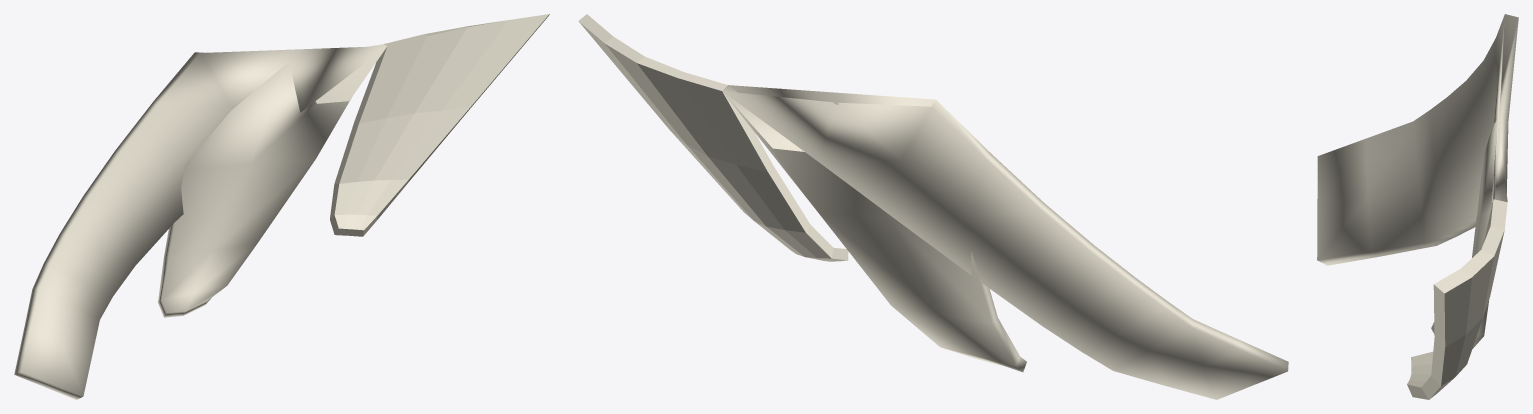
3 views of the same model, side by side, from view 1: azimuth 30°, elevation 25°; view 2: azimuth 150°, elevation 25°; view 3: azimuth 270°, elevation 25° (orthographic). The views are drawn at different scales.
Parts seen in each view (by area): view 1: ZA_f1ae6098c7b2bb76; view 2: ZA_f1ae6098c7b2bb76; view 3: ZA_f1ae6098c7b2bb76.
Part boxes in pixels (bbox=[...]): ZA_f1ae6098c7b2bb76: bbox=[14, 14, 549, 399]; ZA_f1ae6098c7b2bb76: bbox=[578, 14, 1288, 399]; ZA_f1ae6098c7b2bb76: bbox=[1317, 14, 1518, 399].
Bounding box in the file's own units: 0.0337 × 0.0145 × 0.0069.
